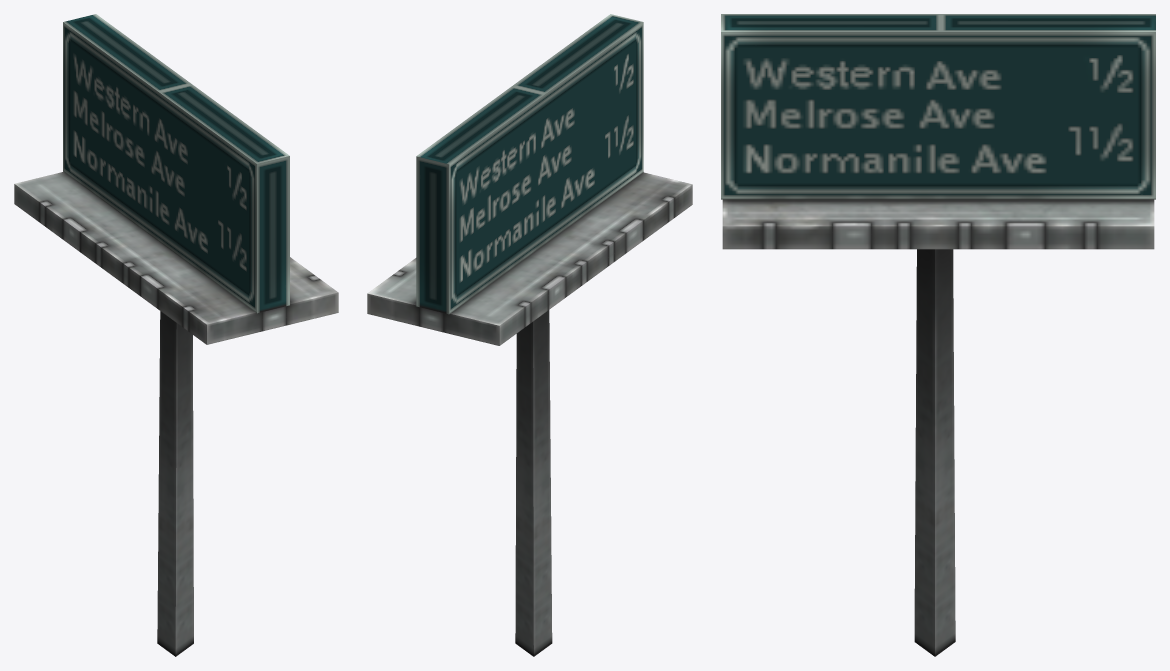
File: LargeRoadSign.fbx
3 views of the same model, side by side, from view 1: azimuth 30°, elevation 25°; view 2: azimuth 150°, elevation 25°; view 3: azimuth 270°, elevation 25° (orthographic). The views are drawn at different scales.
Parts seen in each view (by area): view 1: LargeRoadSign5; view 2: LargeRoadSign5; view 3: LargeRoadSign5.
Part boxes in pixels (x1=…): LargeRoadSign5: x1=14, y1=14, x2=338, y2=656; LargeRoadSign5: x1=367, y1=14, x2=692, y2=656; LargeRoadSign5: x1=721, y1=14, x2=1155, y2=656.
Size of the model in its own units: 0.6695 by 2.71 by 1.71.
